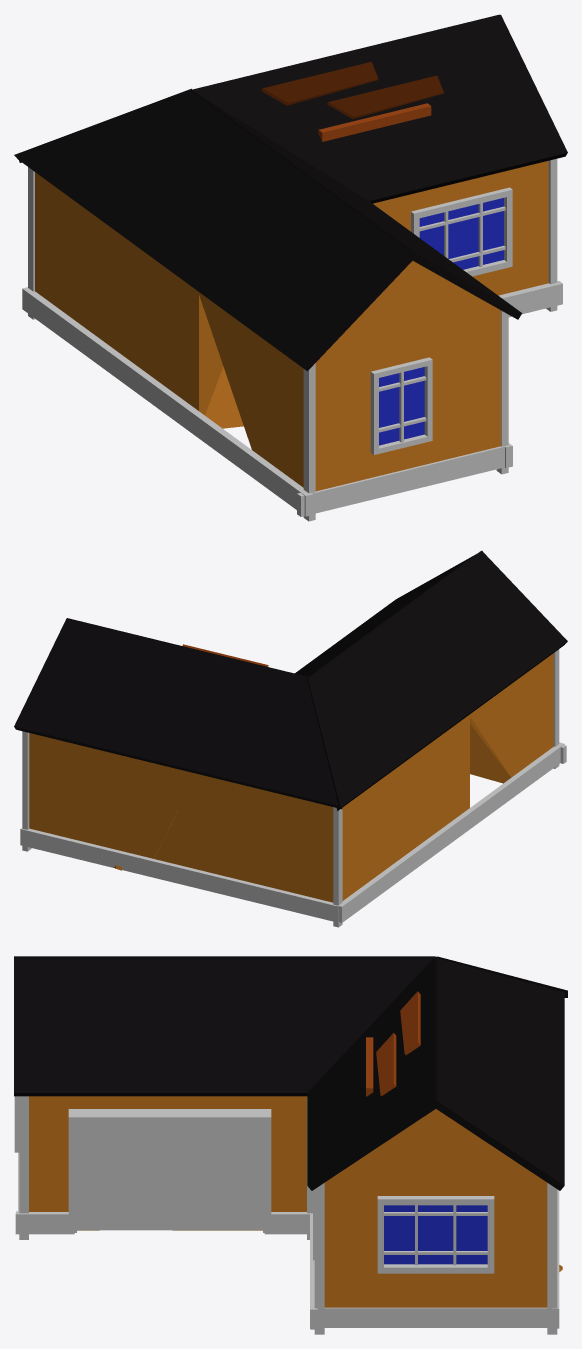
File: House_02.FBX
The picture shows the model from 3 angles, top to bottom: view 1: azimuth 30°, elevation 25°; view 2: azimuth 150°, elevation 25°; view 3: azimuth 270°, elevation 25°; orthographic projection. The views are drawn at different scales.
Parts seen in each view (by area): view 1: polySurface245, polySurface497, polySurface495, polySurface253, polySurface294, polySurface255, polySurface493, polySurface244, polySurface484, pCube138, polySurface489, polySurface254 (+26 smaller); view 2: polySurface291, polySurface580, polySurface579, polySurface497, polySurface290, polySurface582, polySurface281, polySurface495, polySurface261, pCube142, polySurface294, polySurface581 (+17 smaller); view 3: polySurface285, polySurface241, polySurface293, polySurface261, polySurface237, polySurface276, polySurface580, polySurface238, polySurface579, polySurface245, pCube135, polySurface485 (+28 smaller).
Boxes of the visible parts, <box> form: polySurface245: <box>341,24,485,197</box>; polySurface497: <box>236,196,414,337</box>; polySurface495: <box>199,140,337,322</box>; polySurface253: <box>390,272,500,403</box>; polySurface294: <box>66,203,154,377</box>; polySurface255: <box>271,284,403,427</box>; polySurface493: <box>127,132,261,295</box>; polySurface244: <box>464,15,551,176</box>; polySurface484: <box>154,259,243,428</box>; pCube138: <box>22,287,312,516</box>; polySurface489: <box>83,88,236,217</box>; polySurface254: <box>199,292,299,462</box>; polySurface291: <box>154,771,297,893</box>; polySurface580: <box>125,647,280,772</box>; polySurface579: <box>192,671,330,777</box>; polySurface497: <box>422,550,532,681</box>; polySurface290: <box>88,747,185,858</box>; polySurface582: <box>16,623,109,752</box>; polySurface281: <box>283,784,374,902</box>; polySurface495: <box>363,594,514,703</box>; polySurface261: <box>29,733,111,848</box>; pCube142: <box>20,828,338,922</box>; polySurface294: <box>366,740,434,883</box>; polySurface581: <box>107,628,183,756</box>; polySurface285: <box>324,1139,562,1307</box>; polySurface241: <box>182,956,371,1096</box>; polySurface293: <box>172,1096,306,1233</box>; polySurface261: <box>427,1143,547,1307</box>; polySurface237: <box>14,956,148,1096</box>; polySurface276: <box>77,1125,172,1230</box>; polySurface580: <box>436,973,564,1118</box>; polySurface238: <box>164,956,242,1096</box>; polySurface579: <box>436,957,564,1079</box>; polySurface245: <box>307,1026,435,1146</box>; pCube135: <box>318,1307,549,1327</box>; polySurface485: <box>29,1103,99,1233</box>.
Bounding box in the file's own units: 24.43 × 13.84 × 29.28.
